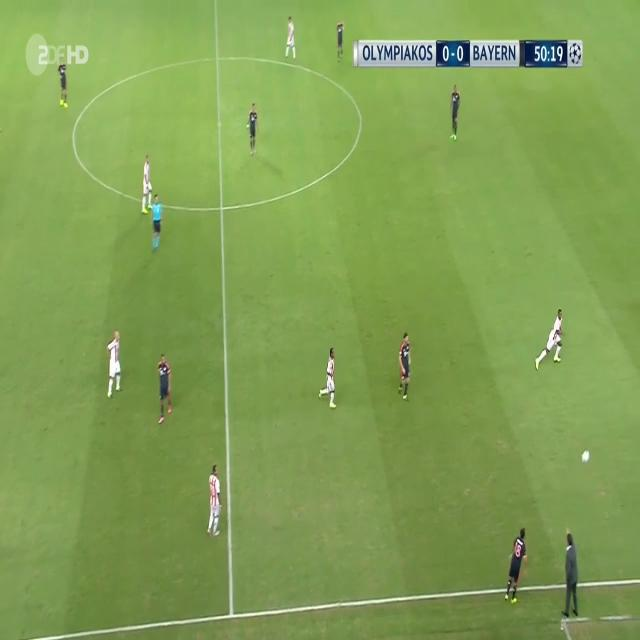Ball: (578, 446, 592, 466)
Player: (533, 309, 565, 373), (502, 527, 527, 605), (204, 460, 223, 539), (104, 327, 124, 402), (318, 344, 339, 414), (156, 352, 174, 428), (395, 332, 411, 404), (140, 154, 154, 218), (448, 83, 461, 145), (246, 100, 260, 157), (284, 15, 298, 62), (56, 62, 69, 110), (335, 18, 345, 66)
Referee: (151, 192, 164, 260)
